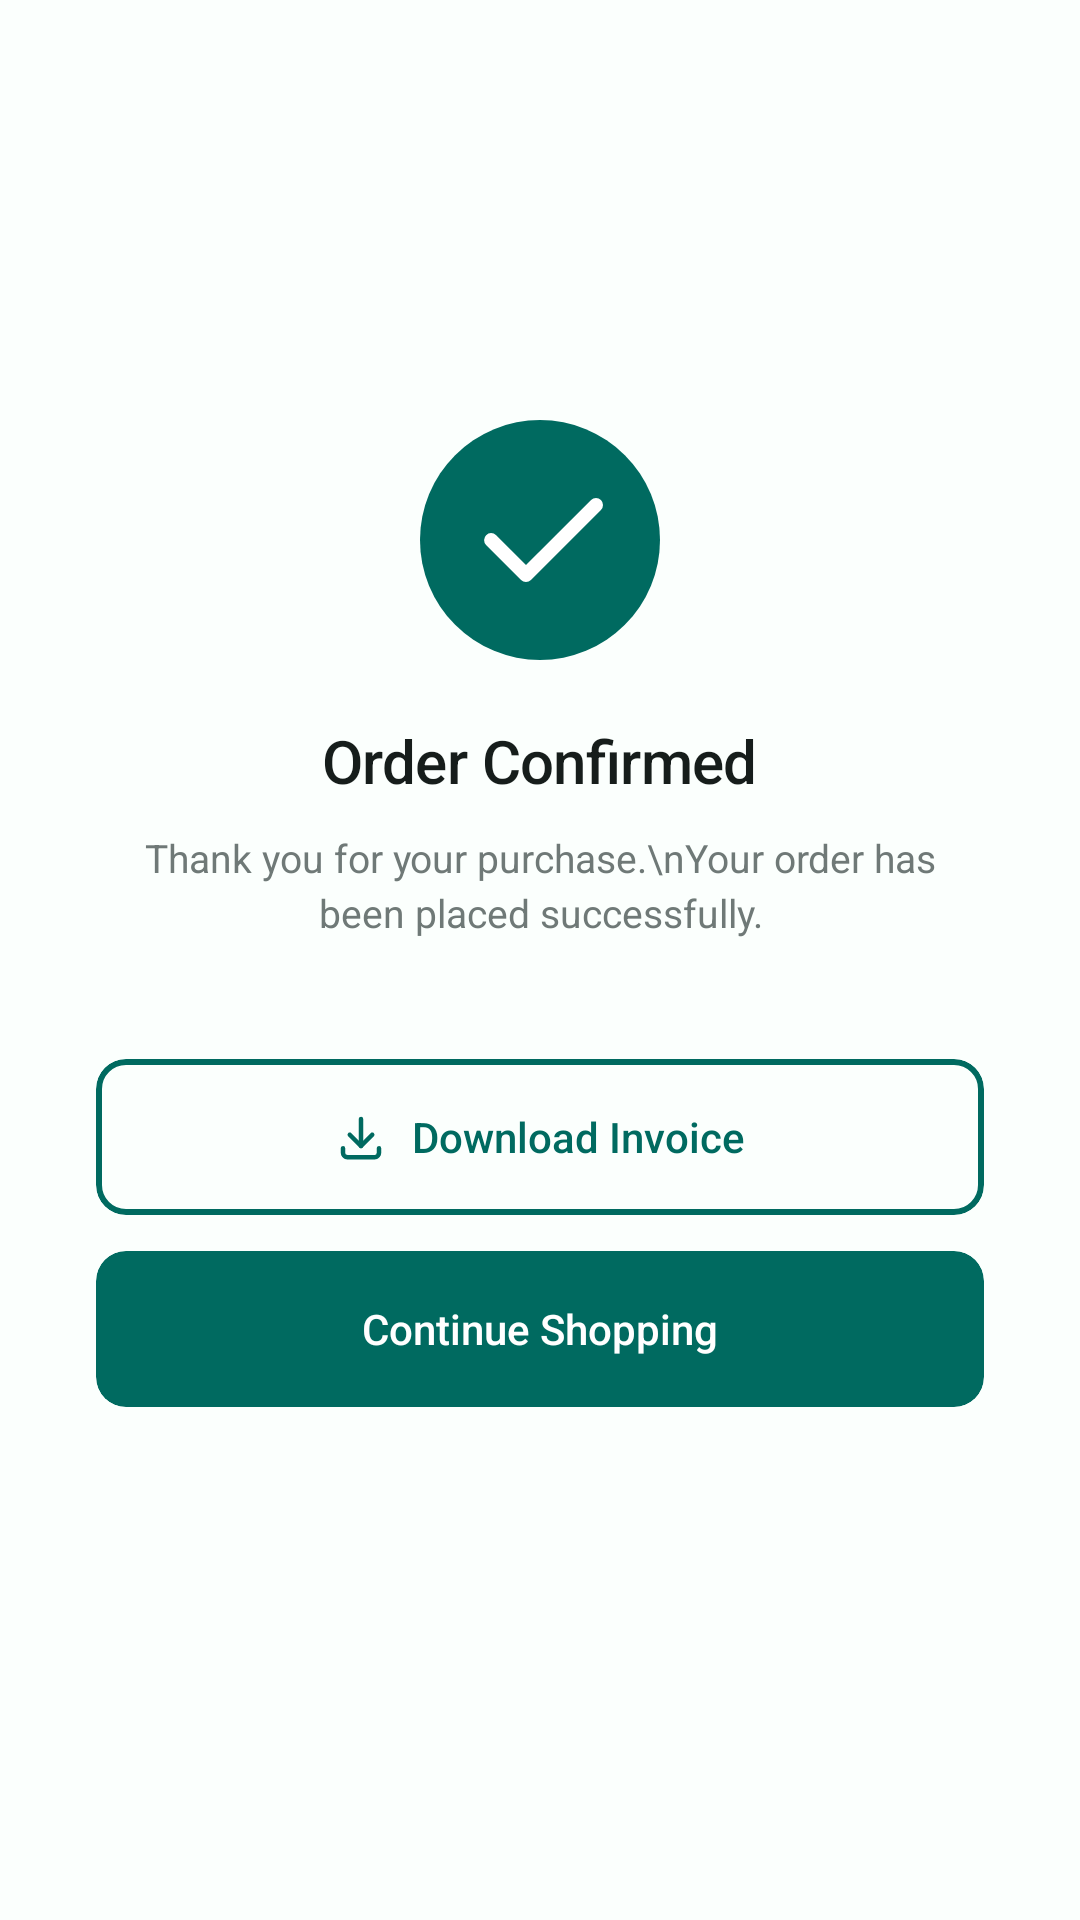

Where to tap for icons on this 1080w x 1920h app screen, as point (x, y):
check: point (543, 540)
